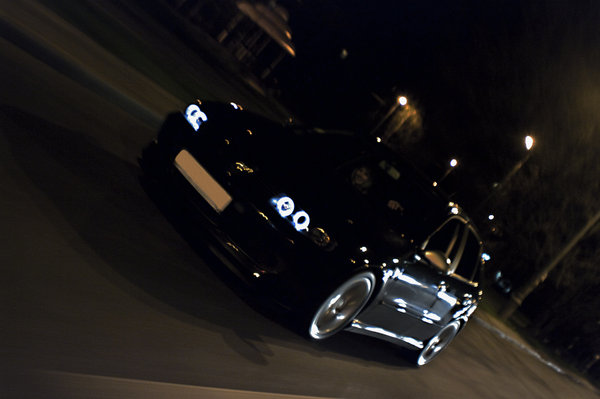car: (133, 82, 494, 383)
